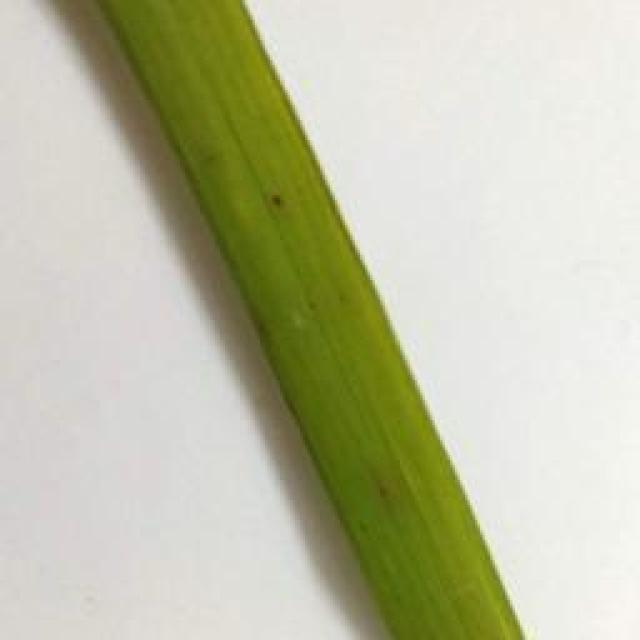Brown_Spot: (241, 169, 311, 234), (352, 466, 414, 519)
